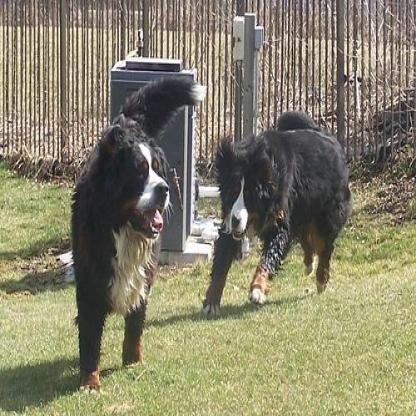Bernese_mountain_dog: (69, 80, 206, 394), (206, 105, 351, 304)
